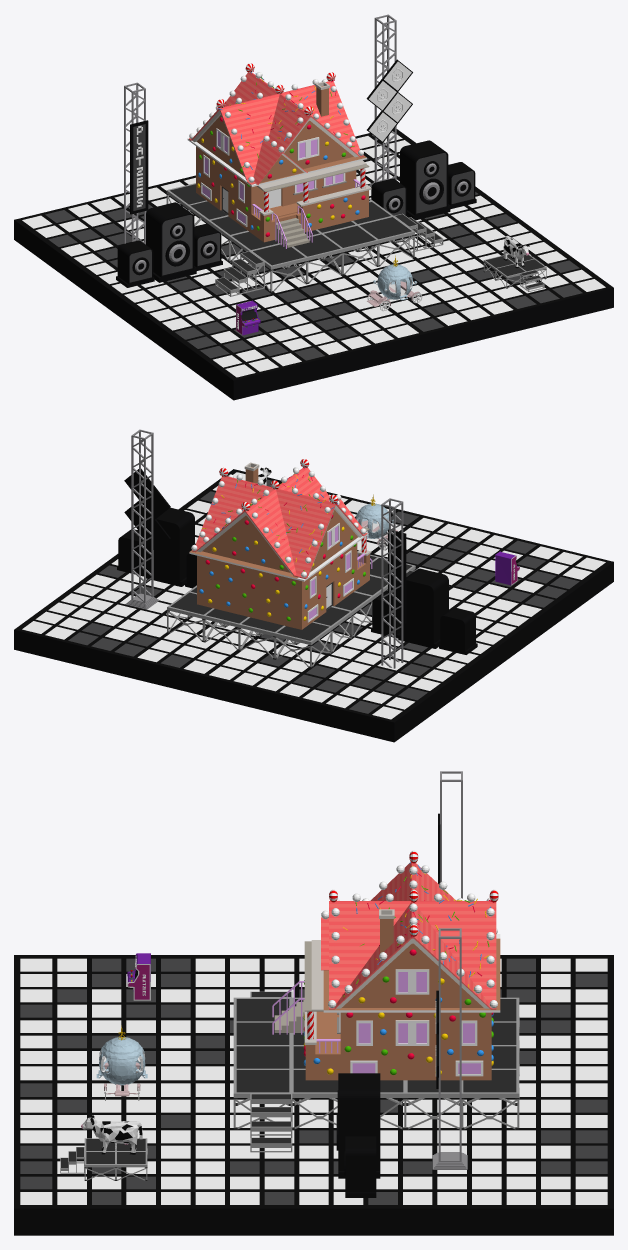
3 views of the same model, one above another, from view 1: azimuth 30°, elevation 25°; view 2: azimuth 150°, elevation 25°; view 3: azimuth 270°, elevation 25° (orthographic). The views are drawn at different scales.
Parts seen in each view (by area): view 1: Cube.008, Cube.1203, VEHICLES_FANTASY_CARRIAGE, OBJRANDOM_ARCADE; view 2: Cube.008, Cube.1203, VEHICLES_FANTASY_CARRIAGE, OBJRANDOM_ARCADE; view 3: Cube.008, Cube.1203, VEHICLES_FANTASY_CARRIAGE, ANIMAL_VACA, OBJRANDOM_ARCADE.
Part boxes in pixels (<box>): Cube.008: <box>14,14,613,400</box>; Cube.1203: <box>187,63,371,248</box>; VEHICLES_FANTASY_CARRIAGE: <box>367,255,422,311</box>; OBJRANDOM_ARCADE: <box>236,300,260,335</box>; Cube.008: <box>14,429,613,742</box>; Cube.1203: <box>189,459,372,629</box>; VEHICLES_FANTASY_CARRIAGE: <box>355,494,397,550</box>; OBJRANDOM_ARCADE: <box>495,551,519,585</box>; Cube.008: <box>14,771,613,1235</box>; Cube.1203: <box>272,850,500,1080</box>; VEHICLES_FANTASY_CARRIAGE: <box>96,1025,147,1100</box>; ANIMAL_VACA: <box>81,1115,142,1154</box>; OBJRANDOM_ARCADE: <box>127,953,150,1000</box>.
Size of the model in its own units: 4000 by 1980 by 4000.
Materials: 45 (2 with a texture image).
